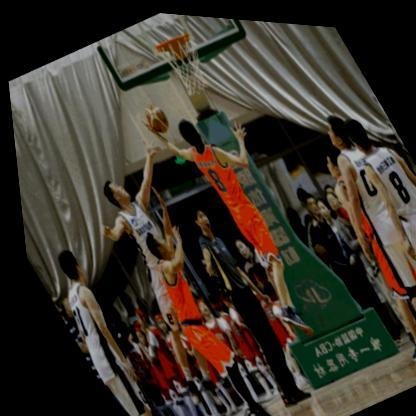basketball: (137, 97, 171, 134)
rim: (150, 25, 219, 99)
